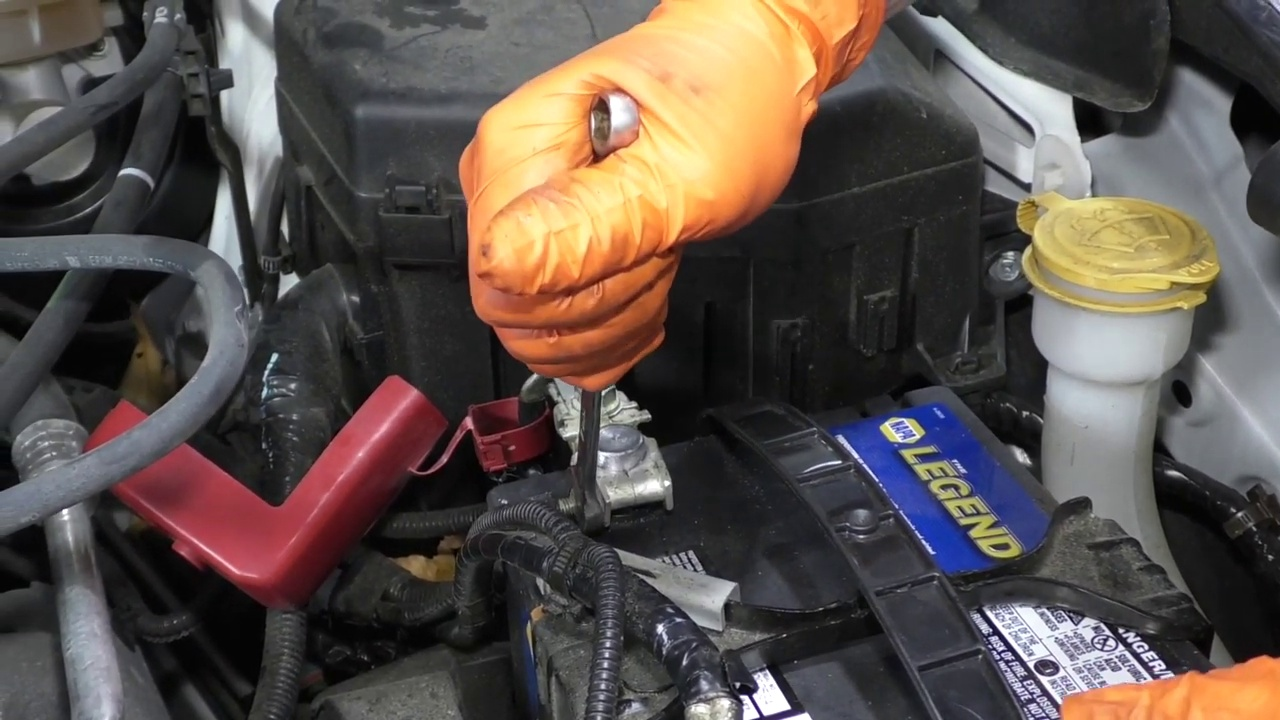battery: (482, 388, 1229, 720)
pos_touched: (457, 222, 707, 536)
